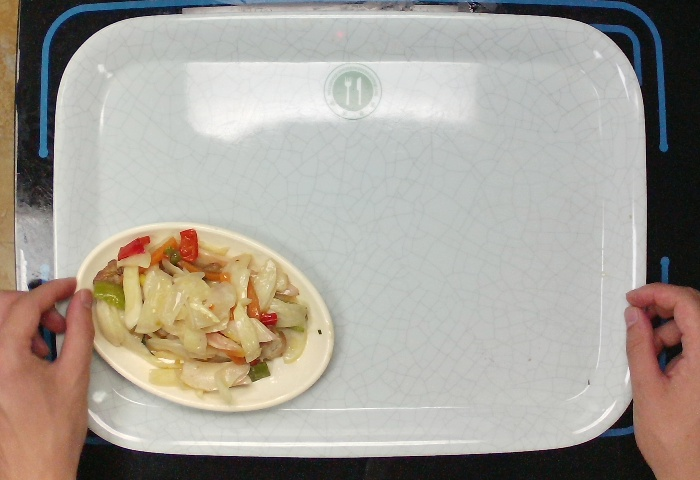JYsf-Tuo_Yuan_Wan: (72, 216, 336, 414)
